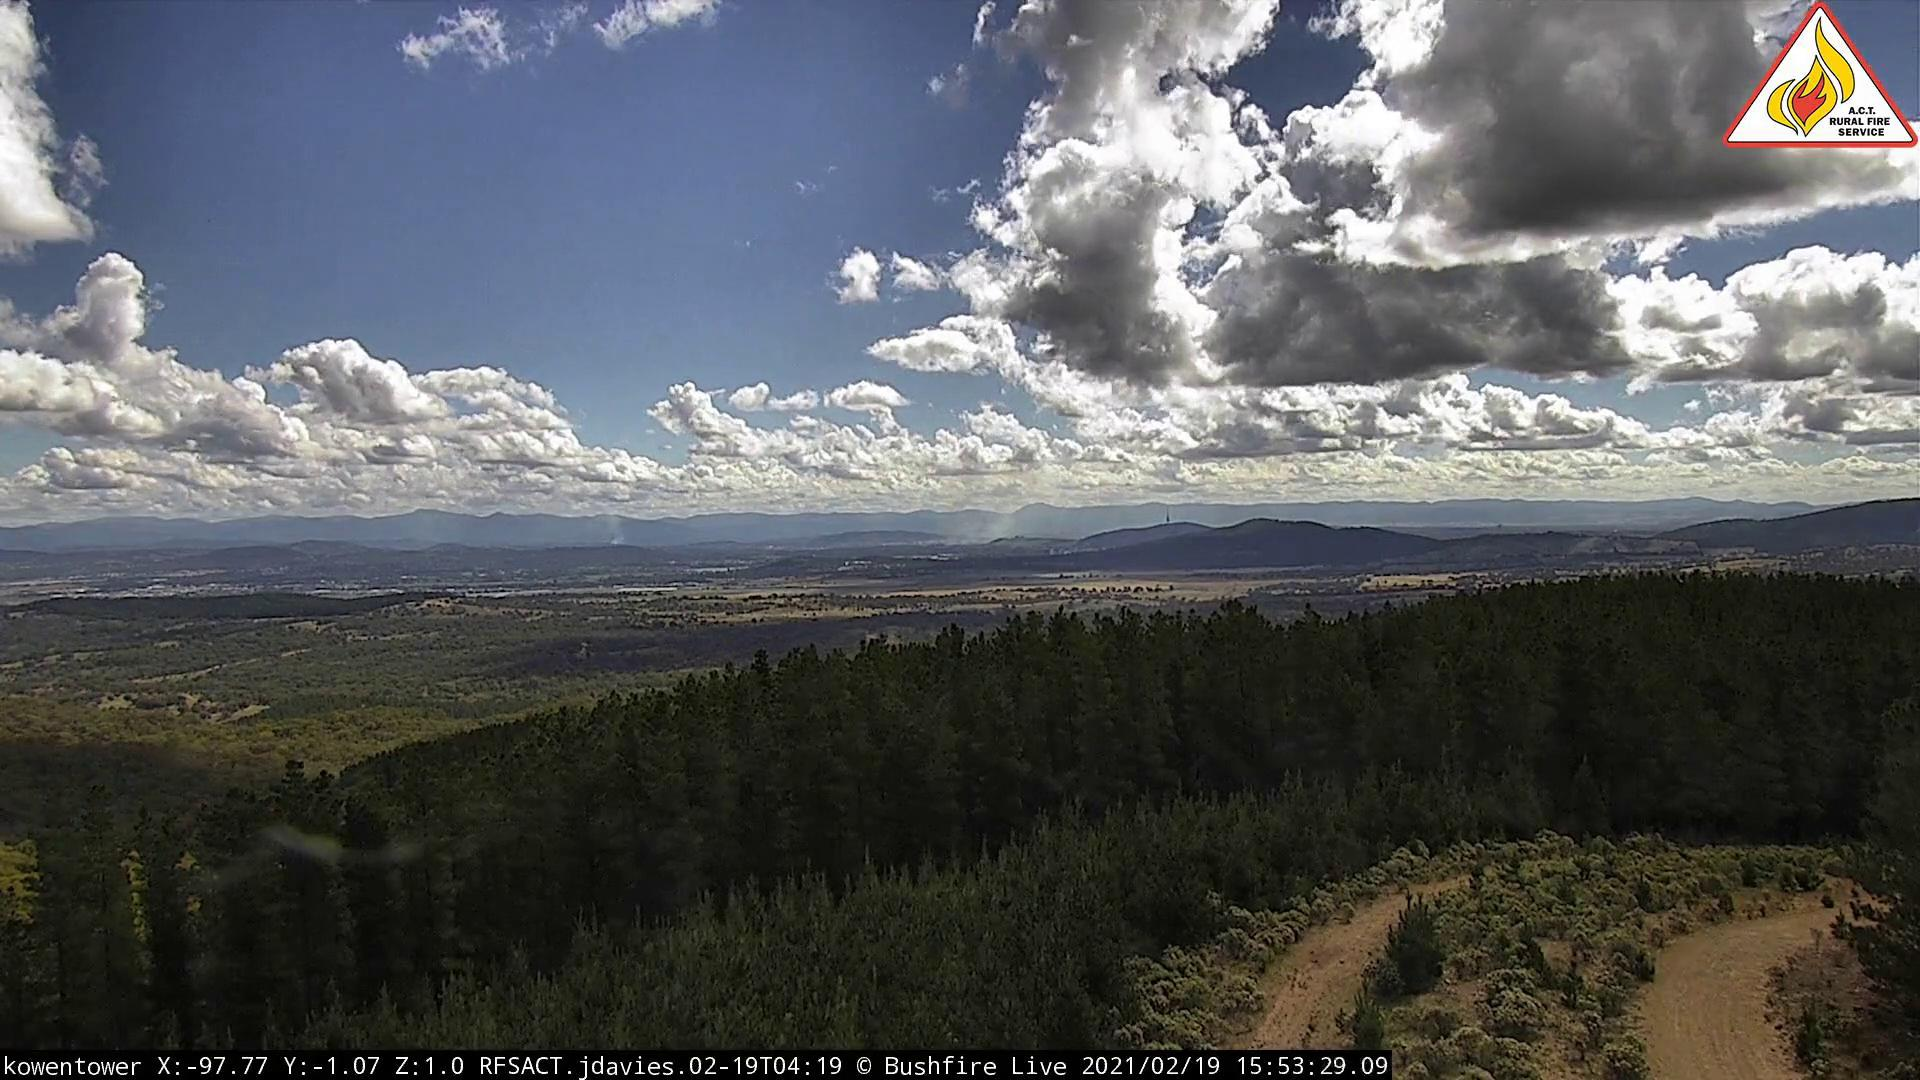Smoke: (944, 504, 1021, 550), (613, 529, 633, 555)
